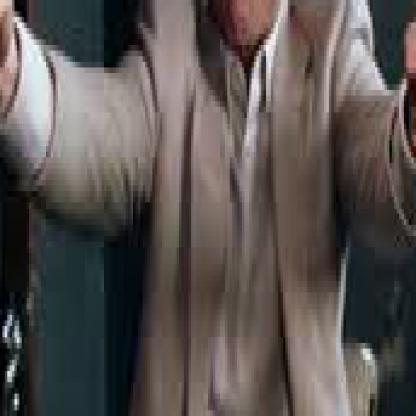gun: (0, 0, 257, 411)
